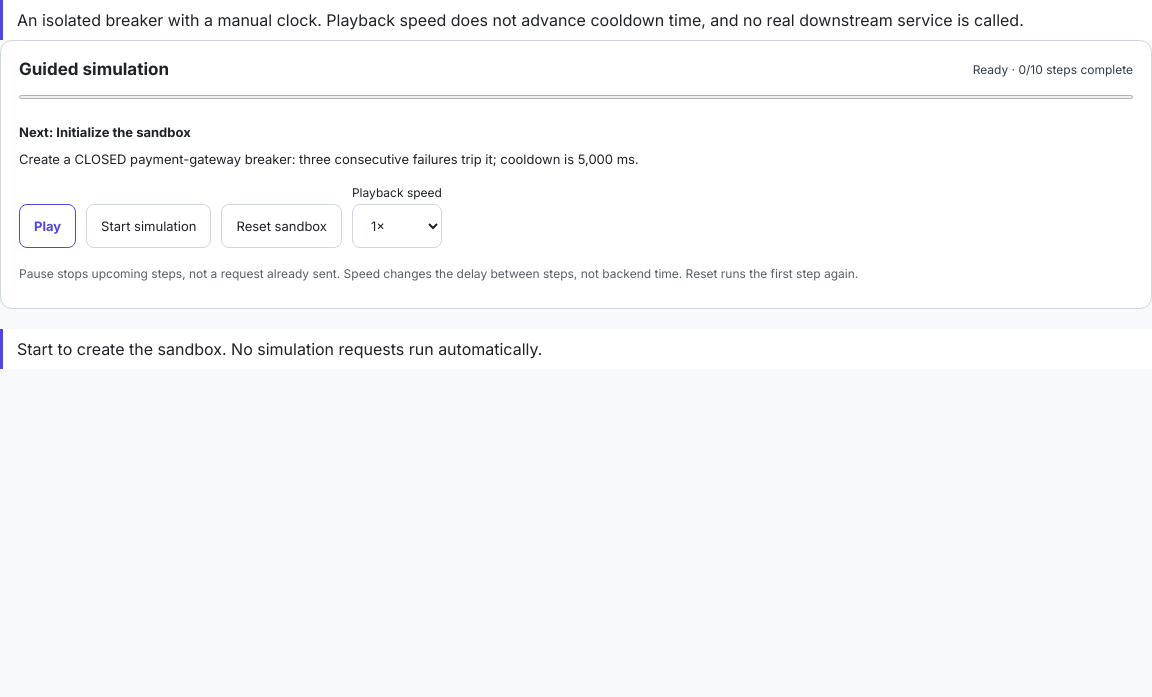
Test: Circuit breaker guided playback › keeps clock advancement and trial requests separate when a clock response fails
The width and height of the screenshot is (1152, 697).
Click the button "Start simulation" at point(149, 226), box [86,204,212,248]
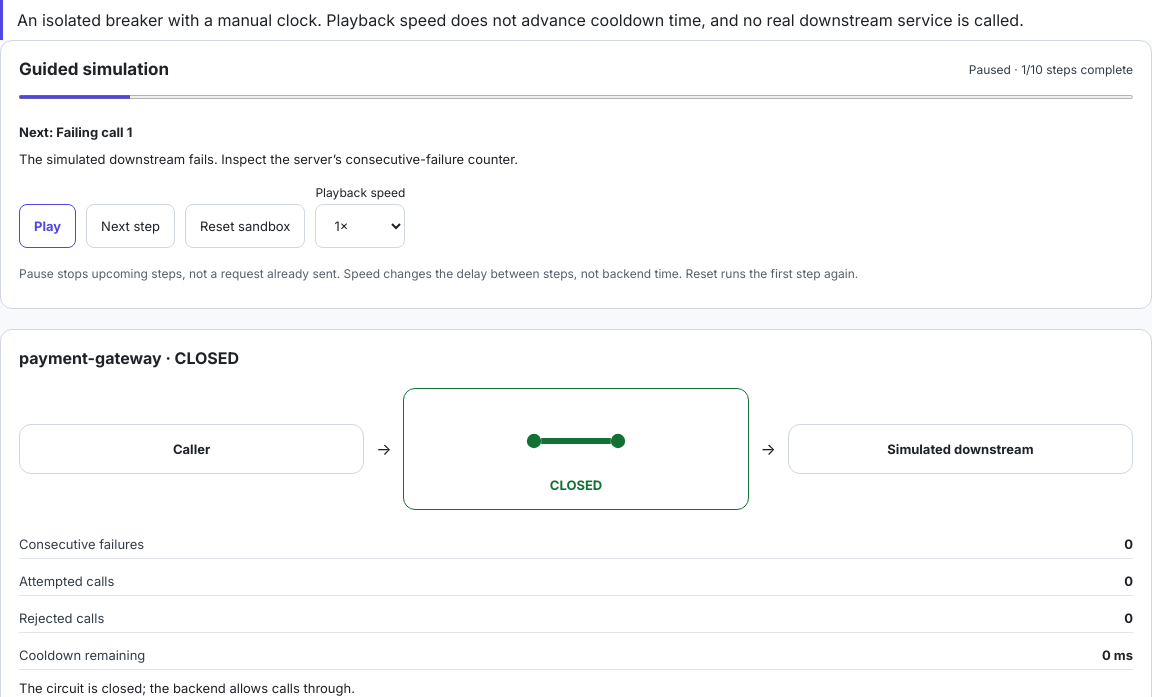
Expected: the progress indicator holds "1", [19,93,1133,101]
Click the button "Next step" at point(131, 226), box [86,204,175,248]
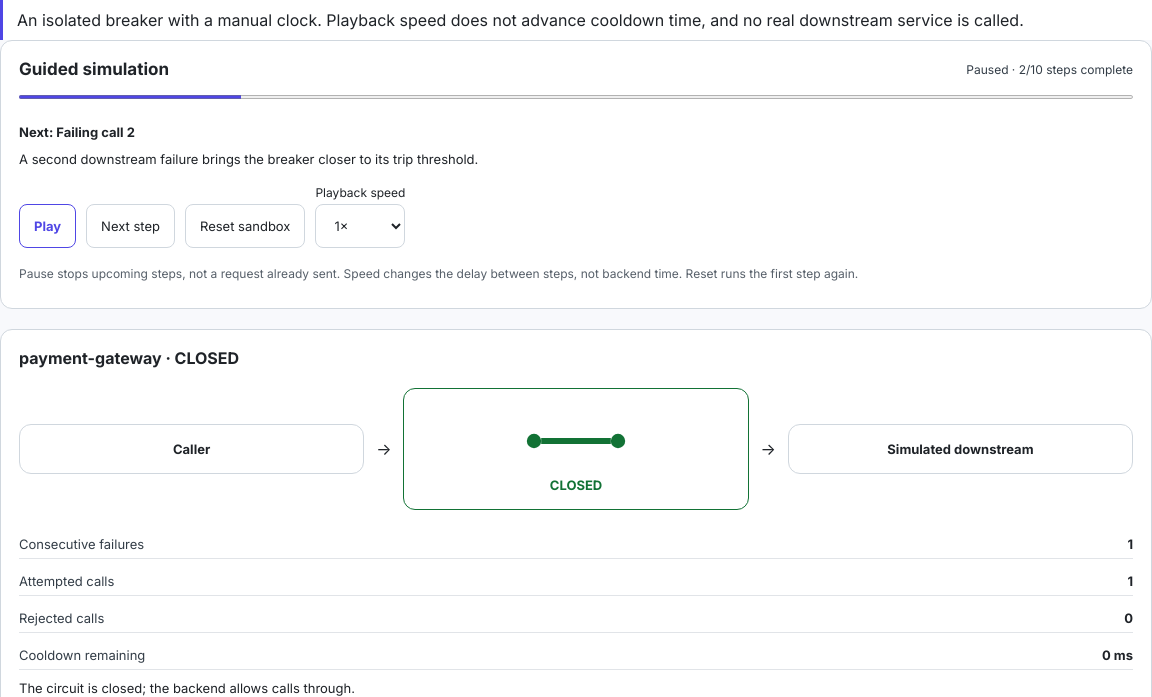
Expected: the progress indicator holds "2", [19,93,1133,101]
Click the button "Next step" at point(131, 226), box [86,204,175,248]
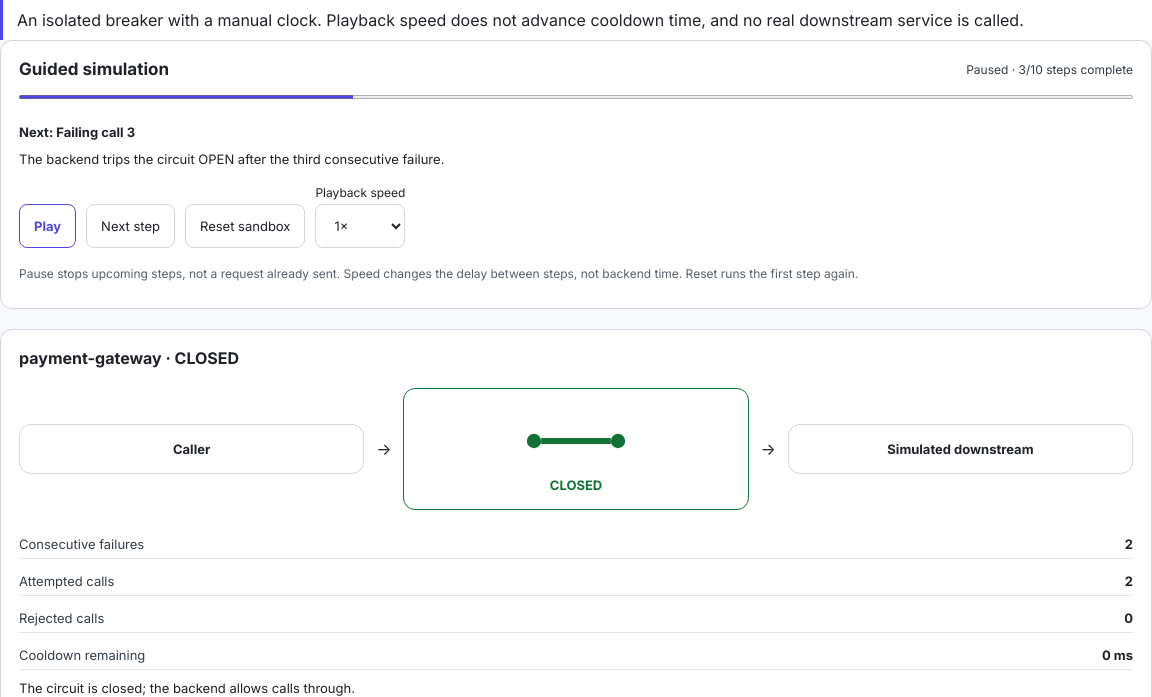
Expected: the progress indicator holds "3", [19,93,1133,101]
Click the button "Next step" at point(131, 226), box [86,204,175,248]
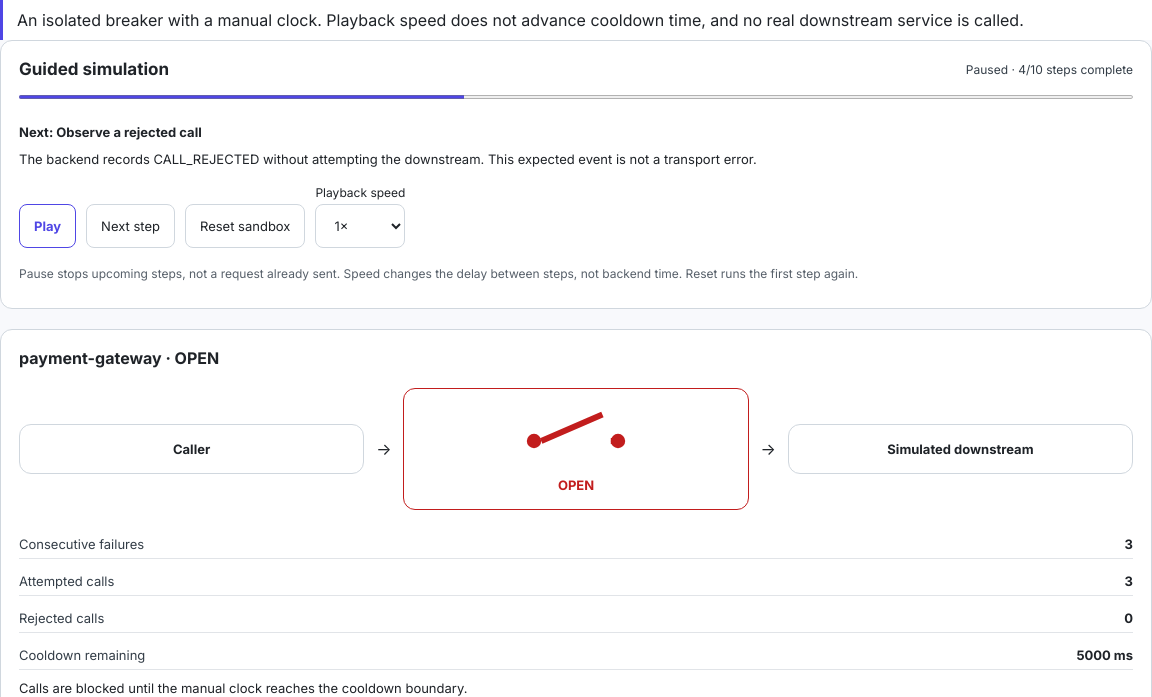
Expected: the progress indicator holds "4", [19,93,1133,101]
Click the button "Next step" at point(131, 226), box [86,204,175,248]
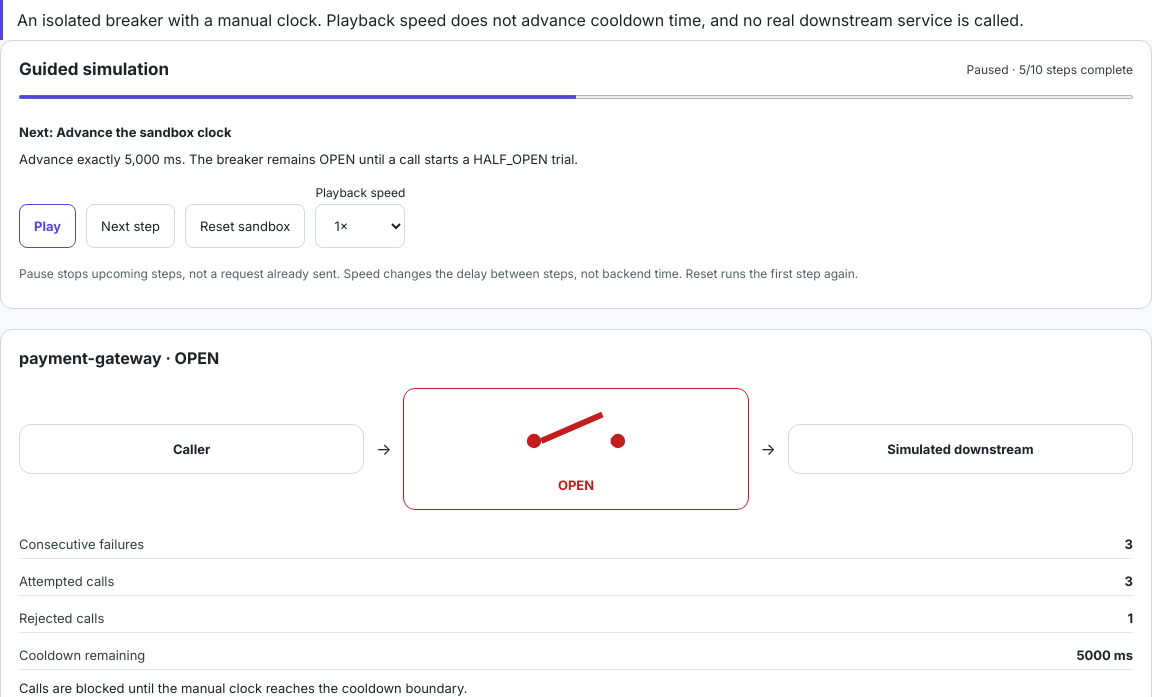
Expected: the progress indicator holds "5", [19,93,1133,101]
Click the button "Next step" at point(131, 226), box [86,204,175,248]
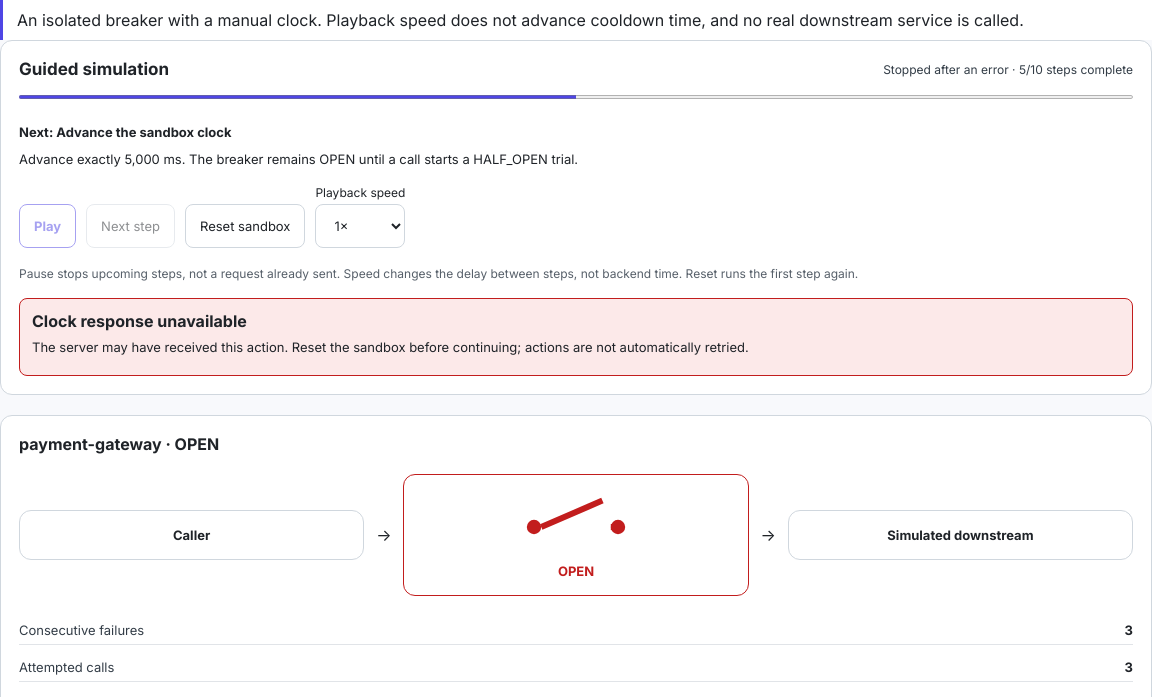
Expected: the progress indicator holds "5", [19,93,1133,101]
Expected: the message that starts with "Clock response unavailable" is shown, [32,311,247,331]
